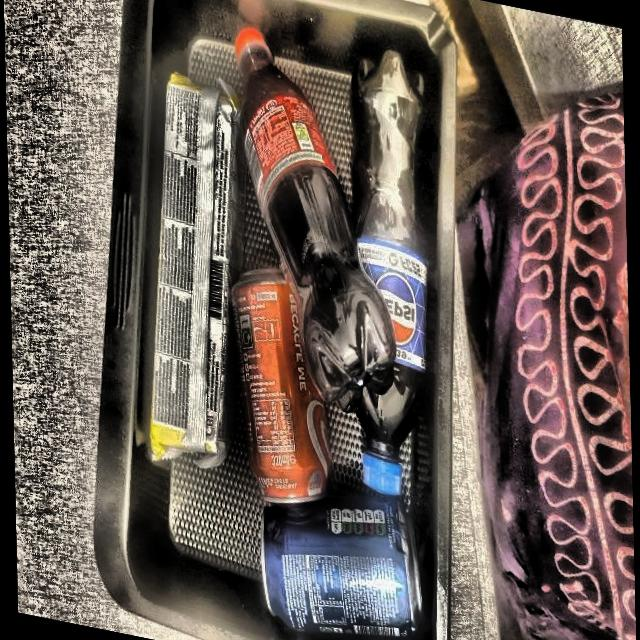coke-bottle: (226, 23, 394, 400)
coke-can: (230, 269, 344, 511)
lemon puff: (144, 71, 242, 464)
pepsi-bottle: (348, 35, 422, 491)
pepsi-can: (253, 500, 423, 632)
